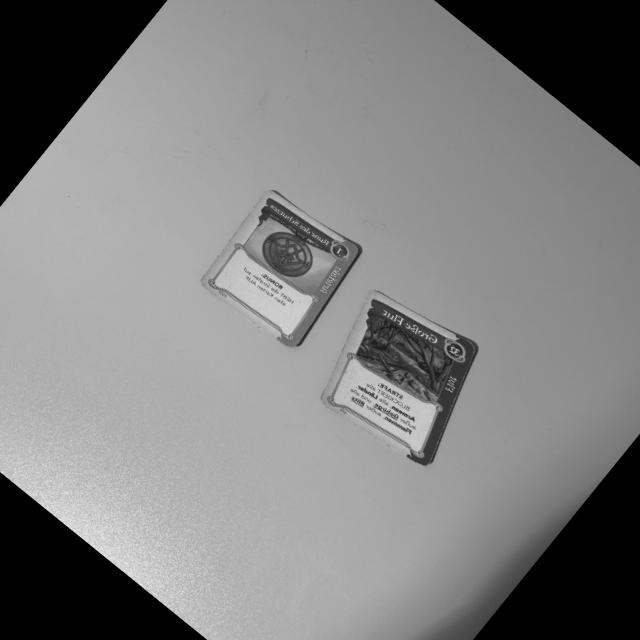Great Flood: (318, 287, 477, 470)
Rune Of Protection: (197, 185, 363, 353)
